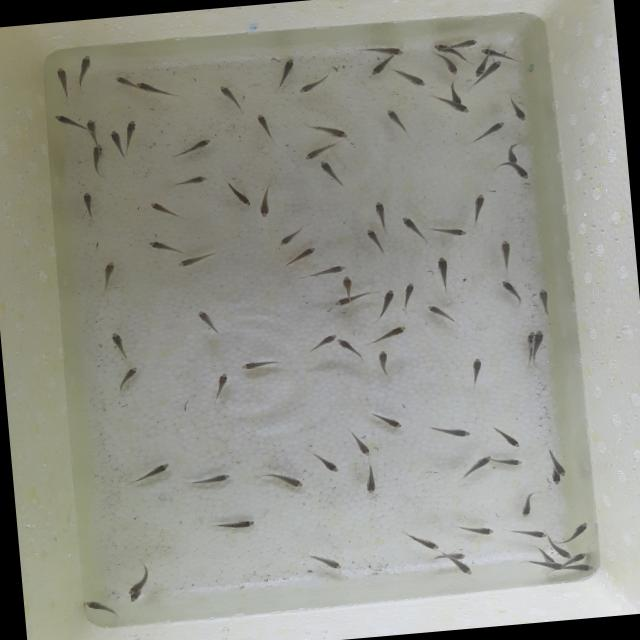fingerling: (260, 466, 312, 494), (462, 187, 496, 229), (301, 545, 348, 575), (124, 460, 174, 488), (79, 594, 127, 622), (299, 119, 350, 145), (400, 523, 442, 554), (424, 300, 462, 334), (90, 256, 121, 295), (425, 218, 471, 244), (314, 158, 348, 192), (136, 78, 184, 102), (106, 327, 138, 362), (469, 118, 512, 144), (487, 421, 523, 452), (298, 141, 351, 162), (275, 244, 321, 268), (364, 322, 414, 344), (172, 250, 222, 272), (222, 176, 254, 210), (428, 421, 475, 444), (310, 448, 346, 478), (399, 211, 428, 248), (145, 197, 183, 225), (296, 70, 334, 98), (303, 259, 353, 280), (454, 518, 499, 541), (168, 135, 215, 157), (430, 254, 454, 297), (383, 106, 415, 138), (123, 560, 151, 596), (142, 234, 184, 258), (249, 110, 280, 142), (369, 408, 407, 434), (392, 66, 430, 92), (75, 188, 103, 223), (161, 172, 210, 192), (210, 515, 261, 534), (512, 489, 543, 520), (238, 354, 286, 374), (112, 364, 144, 394), (502, 94, 534, 124), (347, 427, 376, 460), (253, 182, 278, 220), (272, 223, 308, 249), (192, 306, 221, 338), (461, 355, 489, 388), (216, 82, 244, 115), (184, 471, 237, 488), (494, 236, 516, 276), (72, 54, 98, 87), (371, 198, 394, 235), (335, 335, 365, 363), (497, 277, 523, 309), (358, 41, 406, 58), (331, 290, 376, 308), (459, 455, 494, 478), (360, 463, 382, 499), (374, 348, 398, 380), (49, 110, 82, 133), (534, 284, 555, 320), (360, 225, 385, 255), (398, 280, 420, 313), (508, 524, 548, 542), (209, 372, 232, 402), (274, 58, 298, 86), (54, 65, 72, 102), (311, 331, 338, 355), (88, 142, 106, 178), (376, 288, 398, 317), (363, 57, 393, 78), (493, 453, 526, 472), (502, 138, 522, 164), (510, 162, 533, 184), (567, 520, 592, 540), (81, 116, 100, 142), (122, 118, 140, 145), (452, 558, 474, 580), (440, 58, 460, 80), (108, 127, 124, 153), (448, 100, 472, 116), (111, 74, 137, 88), (453, 36, 481, 49), (554, 542, 572, 560), (488, 58, 508, 74), (478, 46, 504, 58), (574, 562, 594, 576), (471, 62, 488, 78), (340, 274, 354, 292), (430, 40, 448, 54), (546, 562, 568, 572), (573, 550, 591, 562), (532, 329, 546, 344), (450, 550, 468, 561), (550, 474, 562, 486), (556, 467, 569, 478)
